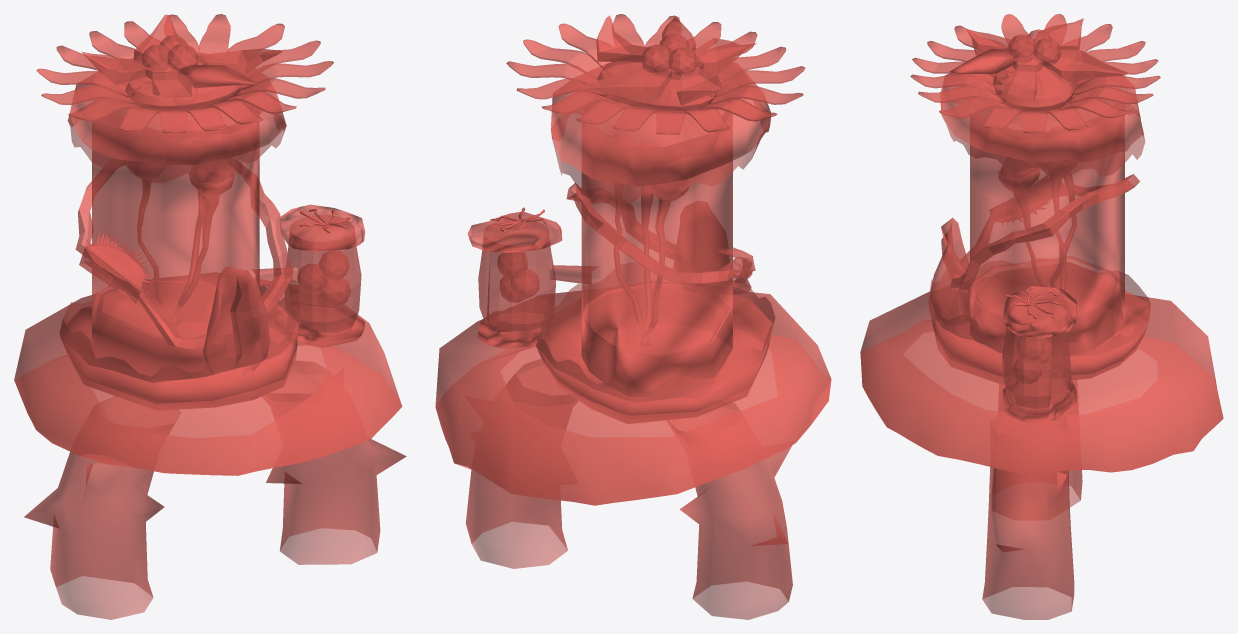
The model's file is BAZA_canNOTplace.fbx.
3 views of the same model, side by side, from view 1: azimuth 30°, elevation 25°; view 2: azimuth 150°, elevation 25°; view 3: azimuth 270°, elevation 25° (orthographic). The views are drawn at different scales.
Parts seen in each view (by area): view 1: Cube.042; view 2: Cube.042; view 3: Cube.042.
Boxes of the visible parts, bbox=[...] form: Cube.042: bbox=[14, 14, 406, 619]; Cube.042: bbox=[435, 14, 831, 619]; Cube.042: bbox=[860, 14, 1223, 619].
Bounding box in the file's own units: 355 × 527 × 346.
